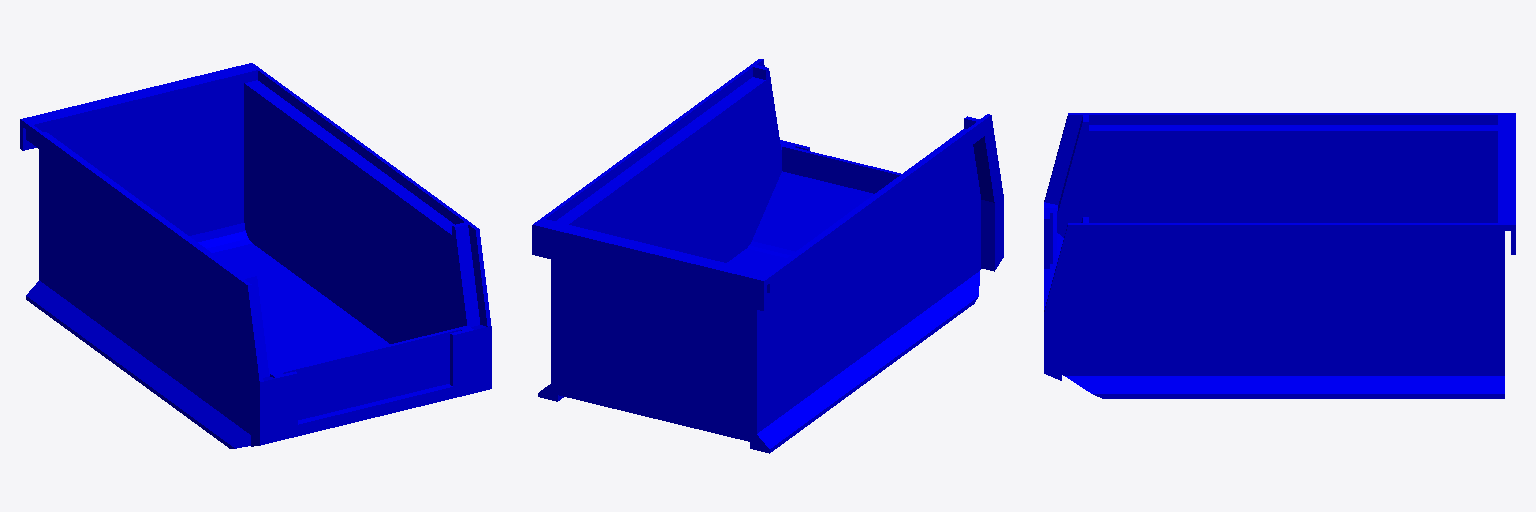
URDF robot description (rack_bin):
<?xml version="1.0" encoding="utf-8"?>
<!-- This URDF was automatically created by SolidWorks to URDF Exporter! Originally created by [author] ([email redacted]) 
     Commit Version: 1.5.1-0-g916b5db  Build Version: 1.5.7152.31018
     For more information, please see http://wiki.ros.org/sw_urdf_exporter -->
<robot
  name="rack_bin">
  <link
    name="rack_bin">
    <inertial>
      <origin
        xyz="0.052387 -0.098266 0.024773"
        rpy="0 0 0" />
      <mass
        value="1.2063" />
      <inertia
        ixx="0.0058116"
        ixy="2.32599999999999E-20"
        ixz="1.5779E-18"
        iyy="0.0022601"
        iyz="0.00044757"
        izz="0.0067169" />
    </inertial>
    <visual>
      <origin
        xyz="0 0 0"
        rpy="1.5707963267949 0 0" />
      <geometry>
        <mesh
          filename="package://suii_description/Field/rack_bin/meshes/red_bin.dae" />
      </geometry>
      <material
        name="">
        <color
          rgba="0 0 1 1" />
        <texture
          filename="package://suii_description/Field/rack_bin/textures/" />
      </material>
    </visual>
    <collision>
      <origin
        xyz="0 0 0"
        rpy="1.5707963267949 0 0" />
      <geometry>
        <mesh
          filename="package://suii_description/Field/rack_bin/meshes/red_bin.dae" />
      </geometry>
    </collision>
  </link>
</robot>

--- Render facts (derived) ---
Views: 3 orthographic renders of the robot side by side, from view 1: azimuth 30°, elevation 25°; view 2: azimuth 150°, elevation 25°; view 3: azimuth 270°, elevation 25°.
Robot: rack_bin — 1 links, 0 joints (none); root link rack_bin; default pose: all joints at 0.
Links seen in each view (by area): view 1: rack_bin; view 2: rack_bin; view 3: rack_bin.
Link boxes in pixels (bbox=[...]): rack_bin: bbox=[20, 63, 491, 448]; rack_bin: bbox=[532, 59, 1003, 453]; rack_bin: bbox=[1044, 113, 1515, 398].
Size in the robot's own frame: 0.1048 by 0.1873 by 0.0762 metres.
Meshes: 1 distinct files referenced, 1 mesh visuals loaded (1 Collada DAE).
